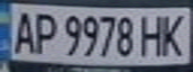7: (97, 12, 118, 57)
8: (115, 12, 139, 57)
9: (60, 10, 84, 56), (78, 11, 100, 57)
A: (6, 7, 39, 54)
H: (136, 11, 169, 57)
K: (157, 10, 190, 57)
P: (30, 8, 60, 55)
